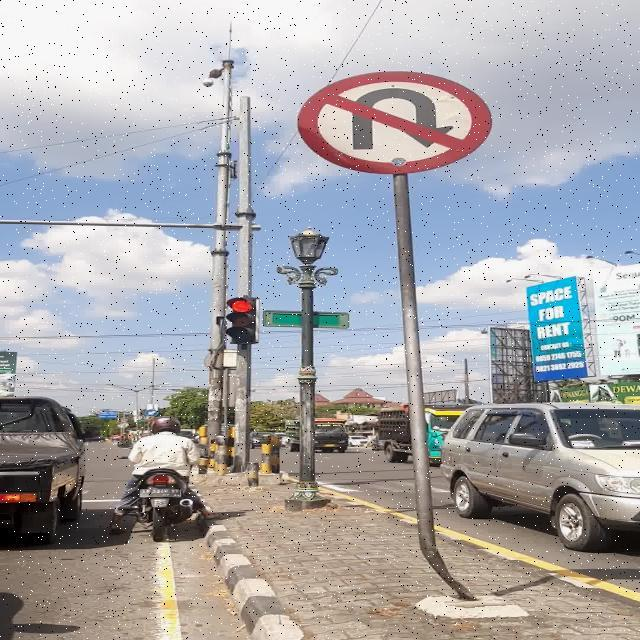Dilarang Putar Balik: (298, 70, 493, 174)
